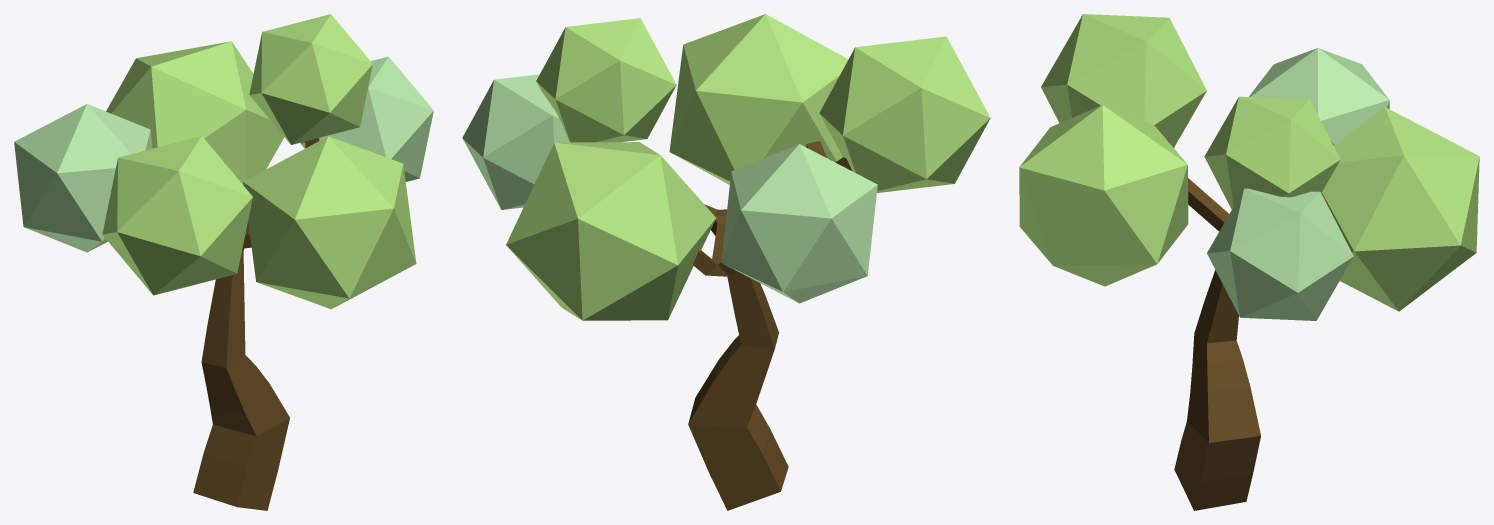
Rendered from testTree.glb.
The picture shows the model from 3 angles, left to right: view 1: azimuth 30°, elevation 25°; view 2: azimuth 150°, elevation 25°; view 3: azimuth 270°, elevation 25°; orthographic projection. The views are drawn at different scales.
Visible parts, largest first — view 1: Icosphere.001, Icosphere.003, Tree, Icosphere, Icosphere.002, Icosphere.004, Icosphere.005; view 2: Icosphere, Icosphere.001, Icosphere.003, Icosphere.002, Tree, Icosphere.004, Icosphere.005; view 3: Icosphere.001, Icosphere, Icosphere.005, Icosphere.003, Tree, Icosphere.004, Icosphere.002.
Part boxes in pixels (x1=…): Icosphere.001: x1=243, y1=136, x2=416, y2=309; Icosphere.003: x1=102, y1=136, x2=252, y2=295; Tree: x1=193, y1=138, x2=319, y2=510; Icosphere: x1=106, y1=41, x2=284, y2=184; Icosphere.002: x1=14, y1=104, x2=152, y2=252; Icosphere.004: x1=249, y1=14, x2=372, y2=144; Icosphere.005: x1=300, y1=56, x2=433, y2=181; Icosphere: x1=506, y1=142, x2=715, y2=320; Icosphere.001: x1=669, y1=14, x2=848, y2=184; Icosphere.003: x1=819, y1=36, x2=990, y2=192; Icosphere.002: x1=721, y1=144, x2=877, y2=303; Tree: x1=688, y1=141, x2=851, y2=510; Icosphere.004: x1=536, y1=18, x2=676, y2=142; Icosphere.005: x1=462, y1=74, x2=569, y2=209; Icosphere.001: x1=1019, y1=105, x2=1188, y2=286; Icosphere: x1=1321, y1=107, x2=1479, y2=311; Icosphere.005: x1=1207, y1=188, x2=1353, y2=320; Icosphere.003: x1=1041, y1=14, x2=1206, y2=147; Tree: x1=1167, y1=138, x2=1260, y2=510; Icosphere.004: x1=1204, y1=96, x2=1340, y2=209; Icosphere.002: x1=1249, y1=48, x2=1389, y2=145.
Bounding box in the file's own units: 9.71 × 10.17 × 9.48.
